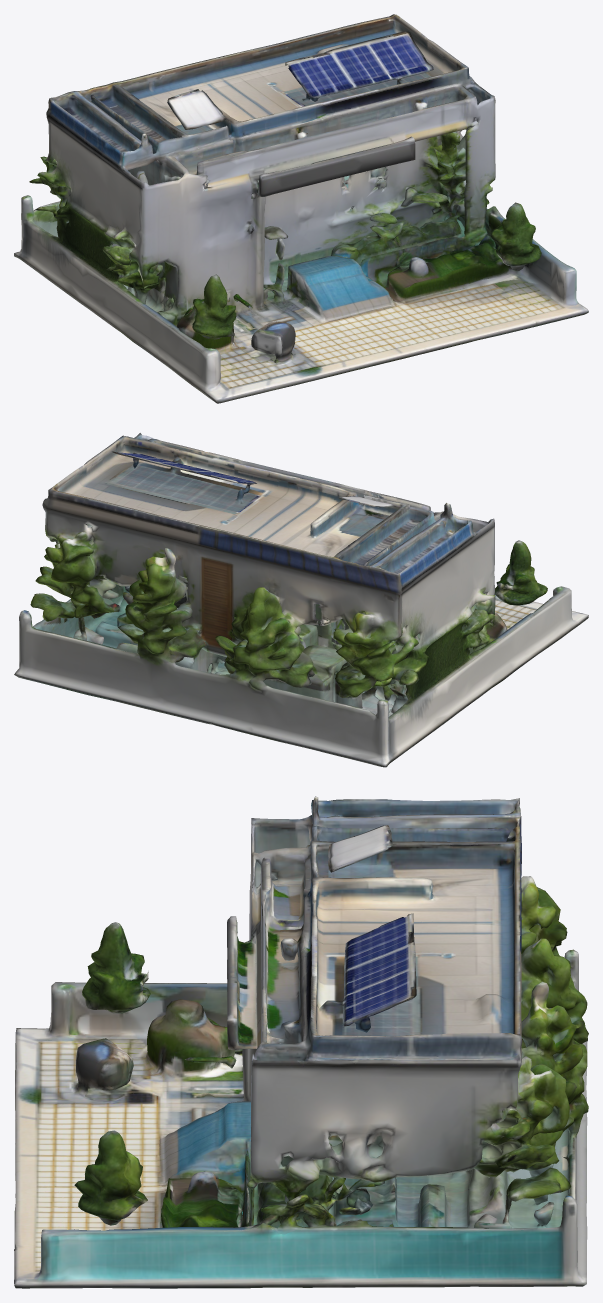
The model's file is garden.glb.
3 views of the same model, one above another, from view 1: azimuth 30°, elevation 25°; view 2: azimuth 150°, elevation 25°; view 3: azimuth 270°, elevation 25° (orthographic). The views are drawn at different scales.
Bounding box in the file's own units: 2 × 0.9583 × 1.86.
1 material, 1 textured.
